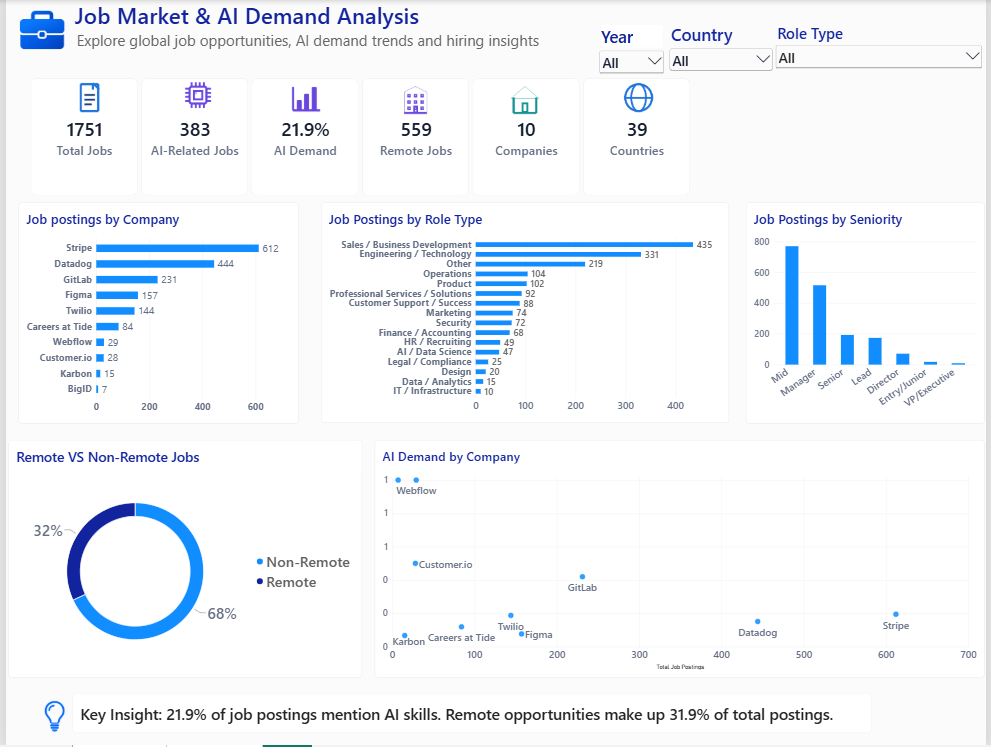

What the dashboard file says about the page in this screenshot:
{"tool":"powerbi","page":{"name":"Page 1","canvas":[2100,1600],"ordinal":0},"visuals":[{"type":"cardVisual","fields":{"Data":["my_jobs_db job_postings.Total Job Postings","my_jobs_db job_postings.AI-Related Jobs","my_jobs_db job_postings.AI Demand %","my_jobs_db job_postings.Remote_Jobs_Postings","my_jobs_db job_postings.Total Companies","my_jobs_db job_postings.Total Countries"]},"box":[26.8,152.8,1268.1,238.6],"z":0},{"type":"clusteredBarChart","title":"Job postings by Company","fields":{"Category":["my_jobs_db job_postings.company"],"Y":["my_jobs_db job_postings.Total Job Postings"]},"box":[27.5,392.5,600,447.5],"z":1000},{"type":"clusteredBarChart","title":"Job Postings by Role Type","fields":{"Category":["my_jobs_db job_postings.role_type"],"Y":["my_jobs_db job_postings.Total Job Postings"]},"box":[675,392.5,875,472.5],"z":2000},{"type":"columnChart","title":"Job Postings by Seniority","fields":{"Category":["my_jobs_db job_postings.seniority"],"Y":["my_jobs_db job_postings.Total Job Postings"]},"box":[1562.5,392.5,512.5,447.5],"z":3000},{"type":"donutChart","title":"Remote VS Non-Remote Jobs","fields":{"Category":["my_jobs_db job_postings.Remote Status"],"Y":["my_jobs_db job_postings.Total Job Postings"]},"box":[0,865,757.5,452.5],"z":4000},{"type":"textbox","box":[103.1,0,1794.6,108.1],"z":5000},{"type":"scatterChart","title":"AI Demand by Company","fields":{"Category":["my_jobs_db job_postings.company"],"X":["my_jobs_db job_postings.Total Job Postings"],"Y":["my_jobs_db job_postings.AI Demand %"]},"box":[782.5,865,1270,452.5],"z":6000},{"type":"image","box":[26.8,152.8,216.2,85.5],"z":7000},{"type":"image","box":[244,152.8,216.2,85.5],"z":8000},{"type":"image","box":[404.8,152.8,281.5,85.5],"z":9000},{"type":"image","box":[581.8,152.8,364.4,85.5],"z":10000},{"type":"image","box":[849.9,152.8,262.7,85.8],"z":11000},{"type":"image","box":[1112.6,152.8,138.2,85.5],"z":12000},{"type":"image","box":[0,0,155.8,128.2],"z":13000},{"type":"slicer","fields":{"Values":["my_jobs_db job_postings.published_year"]},"box":[1268.1,53.6,148.3,108.1],"z":14000},{"type":"slicer","fields":{"Values":["my_jobs_db job_postings.country"]},"box":[1418.2,48.3,231.2,118.1],"z":15000},{"type":"slicer","fields":{"Values":["my_jobs_db job_postings.role_type"]},"box":[1646.1,48.3,452.4,105.6],"z":16000},{"type":"cardVisual","fields":{"Data":["my_jobs_db job_postings.Key Insight"]},"box":[105,1355,1715.8,83.1],"z":17000},{"type":"image","box":[0,1350,155.5,96.5],"z":18000}]}

Visuals, with their boxes in screenshot pixels (x1, y1, x2, y2), scaled from the page's 2100x1600 canvas onto the 991x747 screenshot:
cardVisual - my_jobs_db job_postings.Total Job Postings x my_jobs_db job_postings.AI-Related Jobs: {"x1": 13, "y1": 71, "x2": 611, "y2": 183}
"Job postings by Company" clusteredBarChart: {"x1": 13, "y1": 183, "x2": 296, "y2": 392}
"Job Postings by Role Type" clusteredBarChart: {"x1": 319, "y1": 183, "x2": 731, "y2": 404}
"Job Postings by Seniority" columnChart: {"x1": 737, "y1": 183, "x2": 979, "y2": 392}
"Remote VS Non-Remote Jobs" donutChart: {"x1": 0, "y1": 404, "x2": 357, "y2": 615}
textbox: {"x1": 49, "y1": 0, "x2": 896, "y2": 50}
"AI Demand by Company" scatterChart: {"x1": 369, "y1": 404, "x2": 969, "y2": 615}
image: {"x1": 13, "y1": 71, "x2": 115, "y2": 111}
image: {"x1": 115, "y1": 71, "x2": 217, "y2": 111}
image: {"x1": 191, "y1": 71, "x2": 324, "y2": 111}
image: {"x1": 275, "y1": 71, "x2": 447, "y2": 111}
image: {"x1": 401, "y1": 71, "x2": 525, "y2": 111}
image: {"x1": 525, "y1": 71, "x2": 590, "y2": 111}
image: {"x1": 0, "y1": 0, "x2": 74, "y2": 60}
slicer - my_jobs_db job_postings.published_year: {"x1": 598, "y1": 25, "x2": 668, "y2": 75}
slicer - my_jobs_db job_postings.country: {"x1": 669, "y1": 23, "x2": 778, "y2": 78}
slicer - my_jobs_db job_postings.role_type: {"x1": 777, "y1": 23, "x2": 990, "y2": 72}
cardVisual - my_jobs_db job_postings.Key Insight: {"x1": 50, "y1": 633, "x2": 859, "y2": 671}
image: {"x1": 0, "y1": 630, "x2": 73, "y2": 675}
